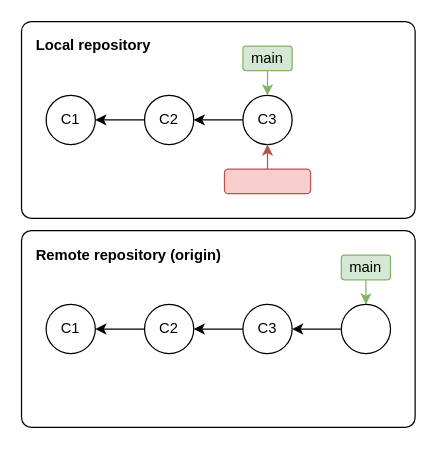
This 437x449 diagram has some shape labels left out. The shapes that lost their labels are listed below. From the top down, each one's centre as x and y in pixels, then its label:
At (x=267, y=181): "origin/main".
At (x=365, y=328): "C4".
